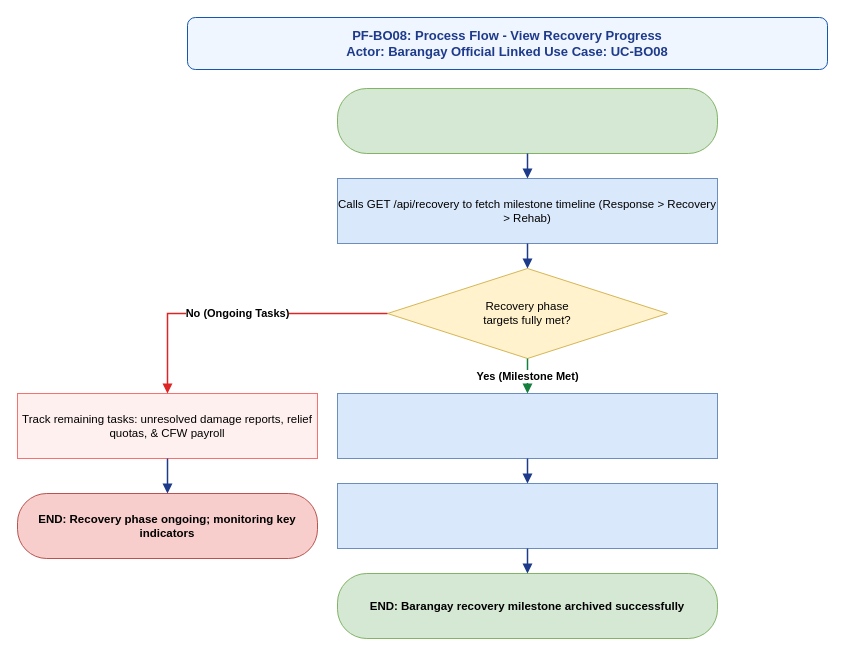
Some shapes in this 845 by 656 pixel diagram are drawn without their labels. The centre of each missing label's shape, as x and y in pixels:
Sends PUT /api/recovery/:householdId to advance recovery phase milestone: point 527,425
START: Barangay Official opens RecoveryProgressTracker.jsx: point 527,121
System emits progress update to LGU Admin Command Center Dashboard: point 527,515
